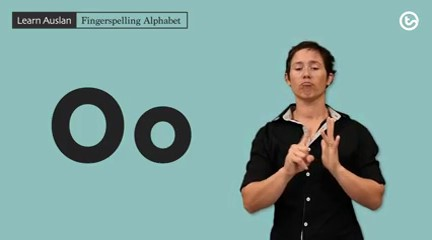O: (279, 114, 352, 175)
